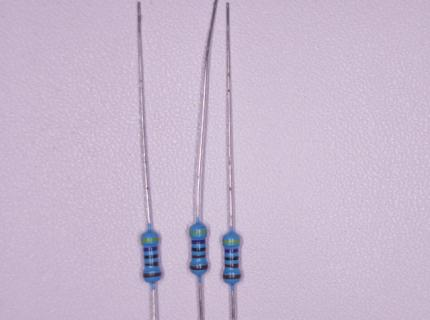Black band: (144, 254, 158, 259), (224, 256, 239, 260), (193, 247, 205, 251)
Brown band: (144, 272, 161, 278), (223, 274, 241, 279), (190, 265, 208, 270), (225, 263, 239, 268), (145, 261, 158, 266), (192, 254, 205, 258)
Violet band: (144, 246, 157, 252), (225, 248, 239, 253), (192, 239, 205, 244)
Yellow band: (141, 237, 158, 242), (189, 230, 207, 234), (224, 239, 240, 243)
